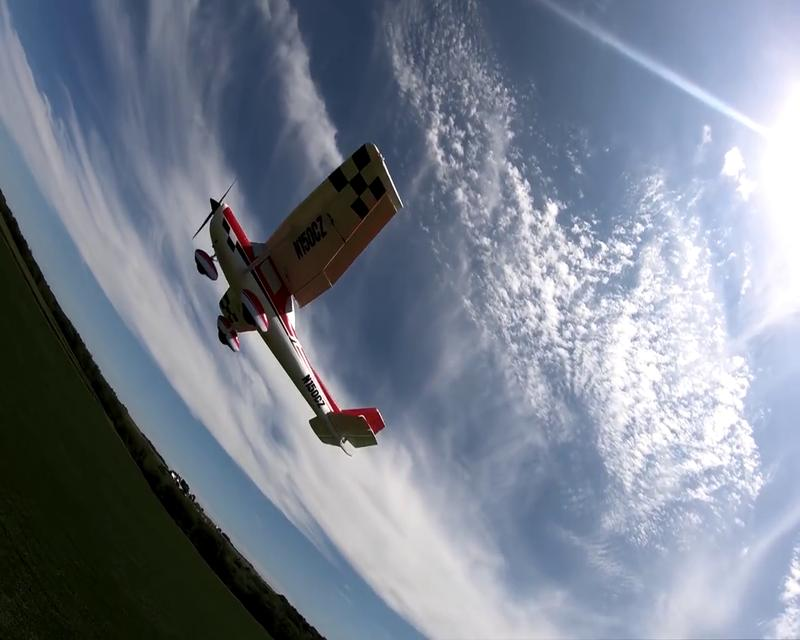UAV: (191, 141, 406, 455)
